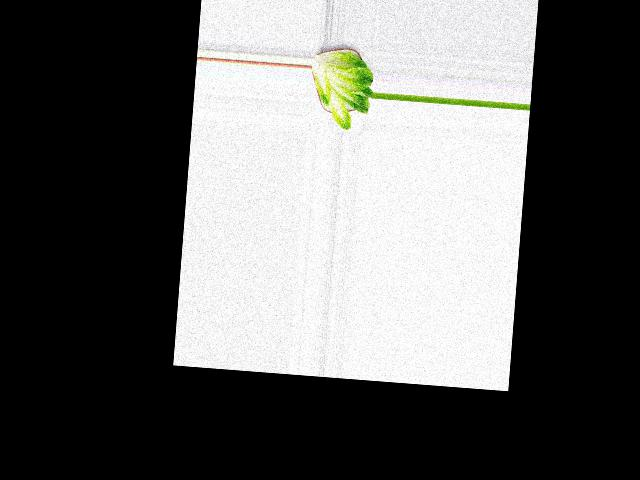lettuce: (309, 45, 377, 133)
